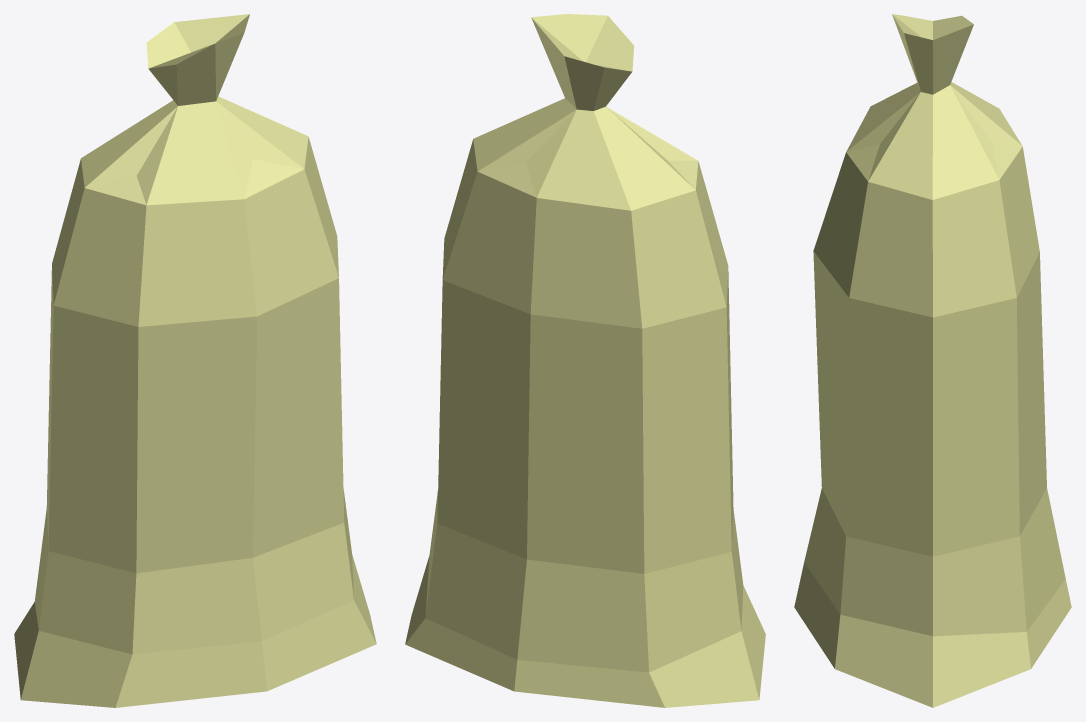
The model's file is sandbag.fbx.
3 views of the same model, side by side, from view 1: azimuth 30°, elevation 25°; view 2: azimuth 150°, elevation 25°; view 3: azimuth 270°, elevation 25° (orthographic). The views are drawn at different scales.
Visible parts, largest first — view 1: sandbag; view 2: sandbag; view 3: sandbag.
Boxes of the visible parts, x1,y1,x2,y2 form: sandbag: [14, 14, 376, 707]; sandbag: [405, 14, 765, 707]; sandbag: [794, 14, 1071, 707].
Size of the model in its own units: 0.7307 by 0.5183 by 1.27.
